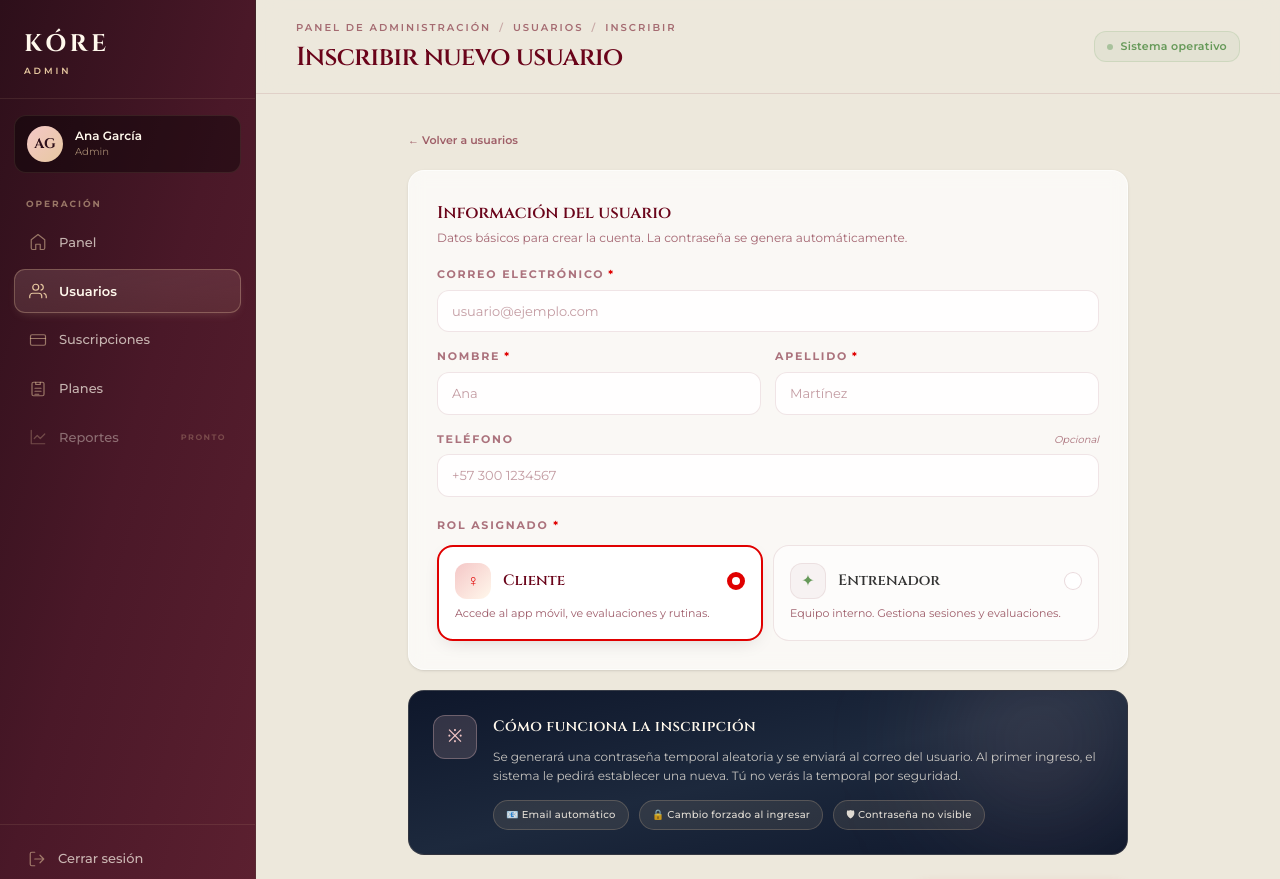
Scenario: AdminUserNewPage › shows the success screen after a user is created
Type "nuevo@example.com" into the field with placeholder "usuario@ejemplo.com" at (768, 311), box [437,290,1099,332]
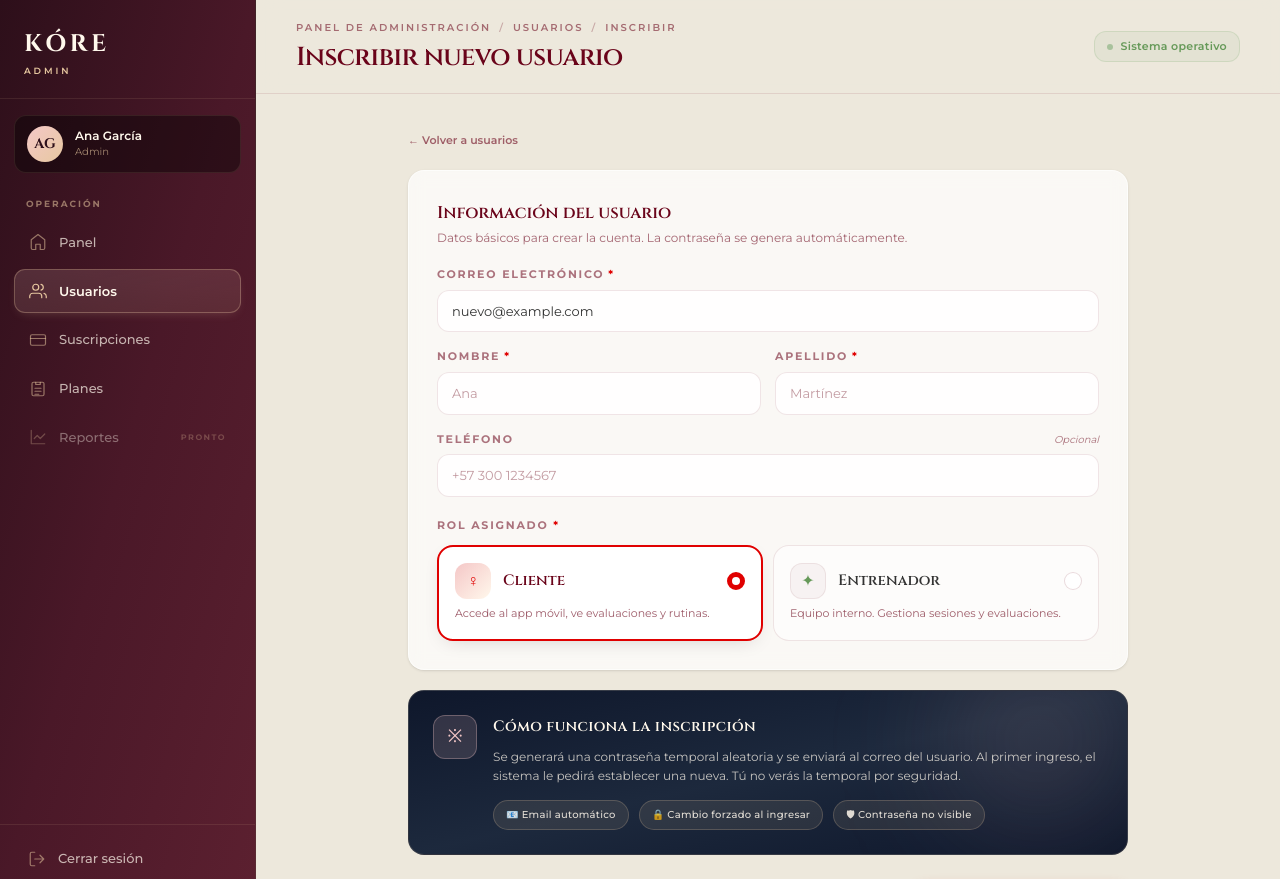
Type "Nuevo" into the field with placeholder "Ana" at (599, 393), box [437,372,761,415]
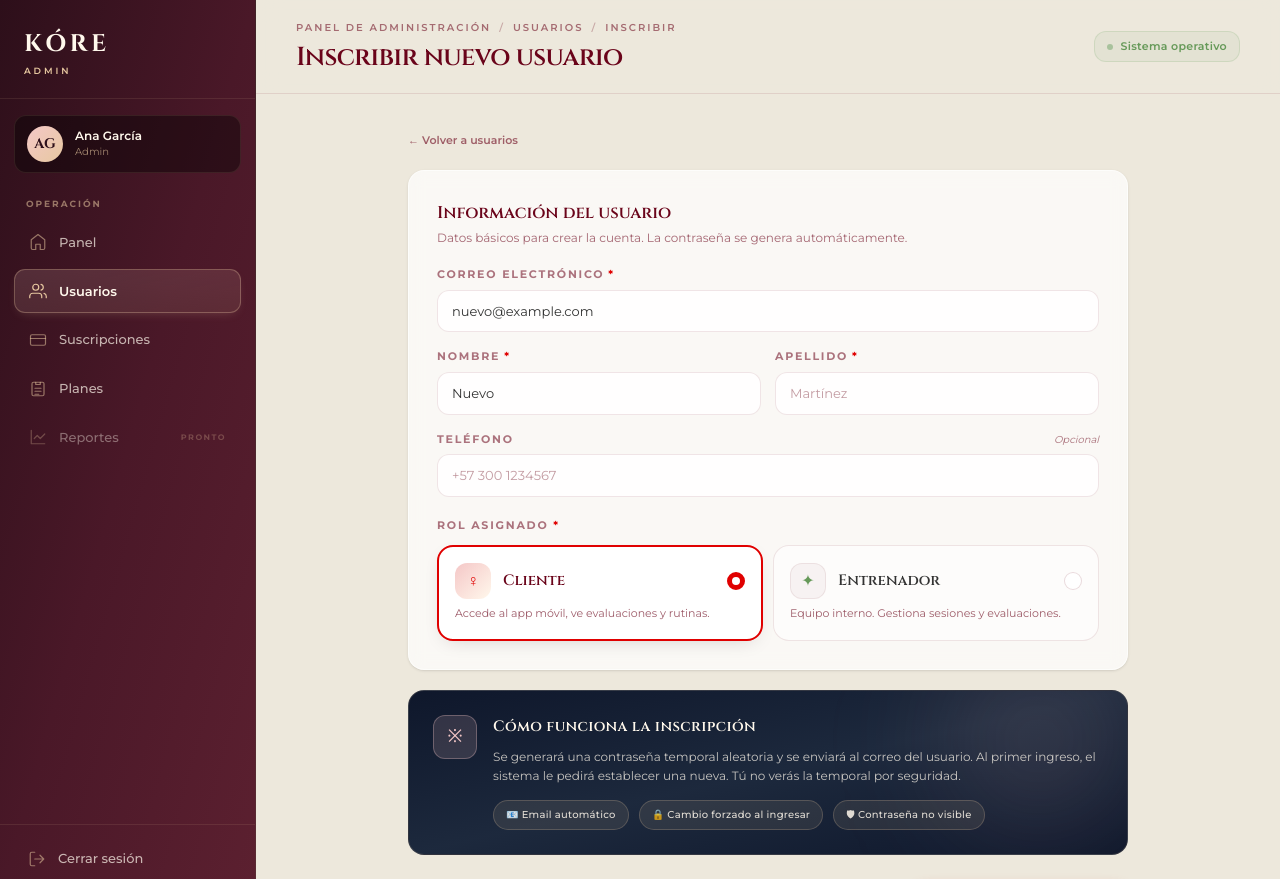
Type "Usuario" into the field with placeholder "Martínez" at (937, 393), box [775,372,1099,415]
(page scrolled)
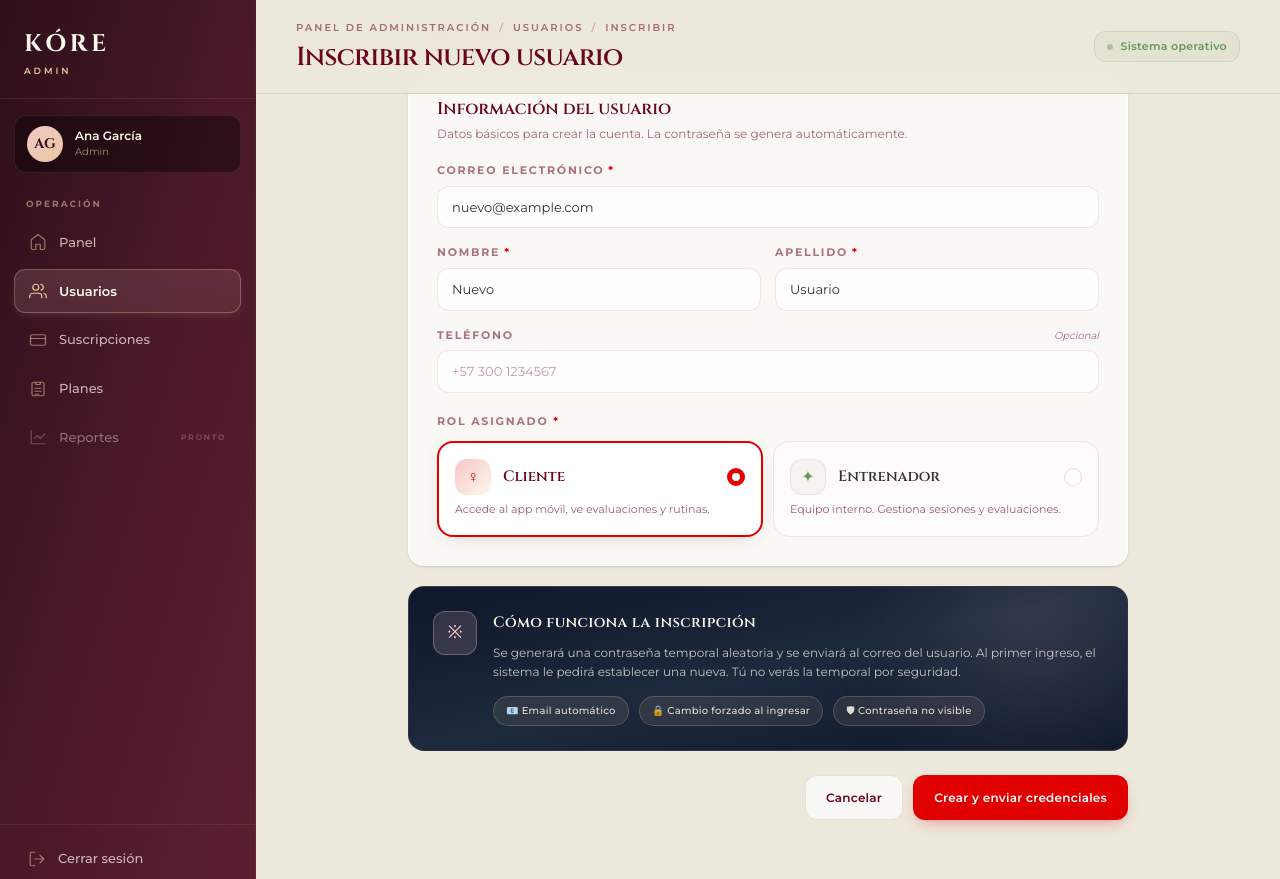
Click the button "Crear y enviar credenciales" at (1021, 797), box [913,775,1128,820]
(page scrolled)
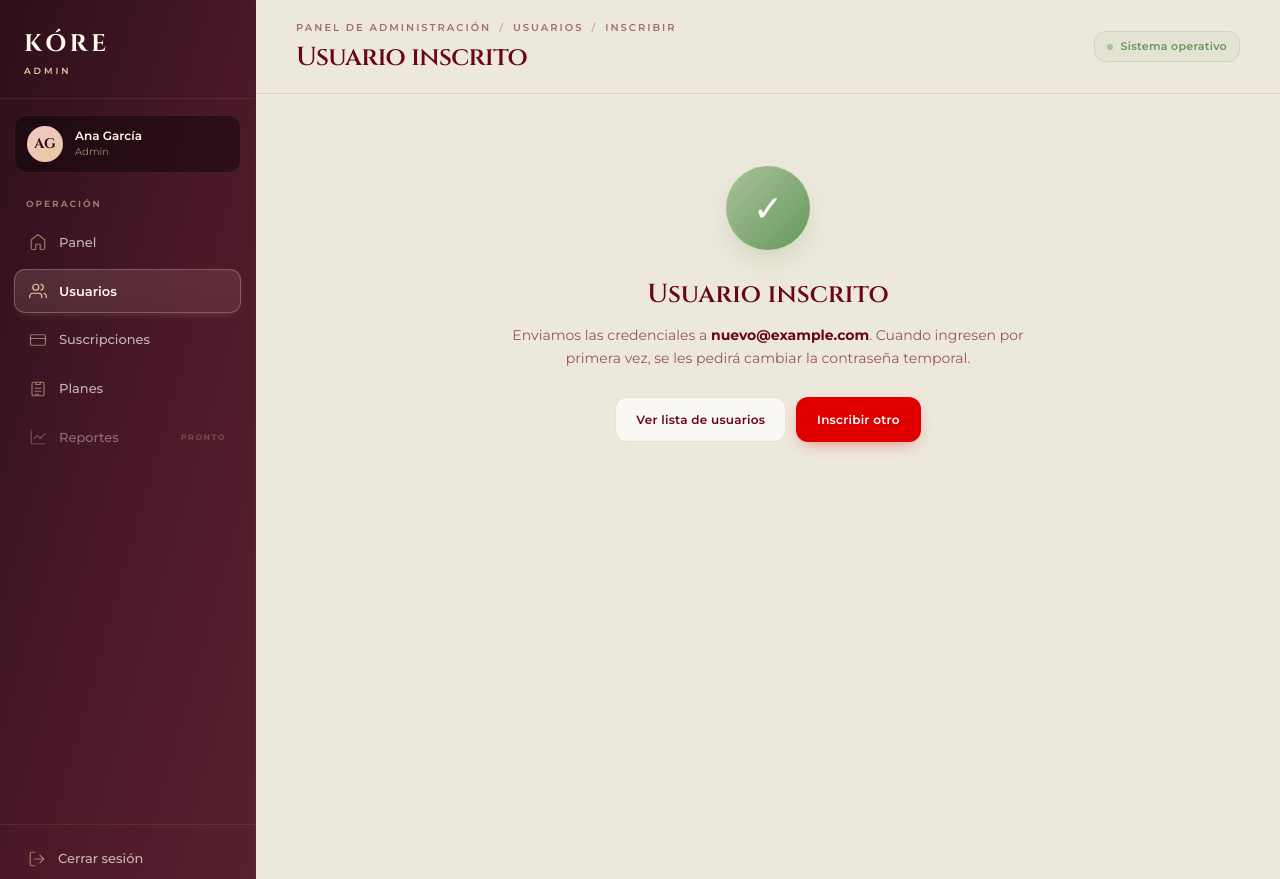
Expected: the heading "Usuario inscrito" is shown, [296,40,527,75]
